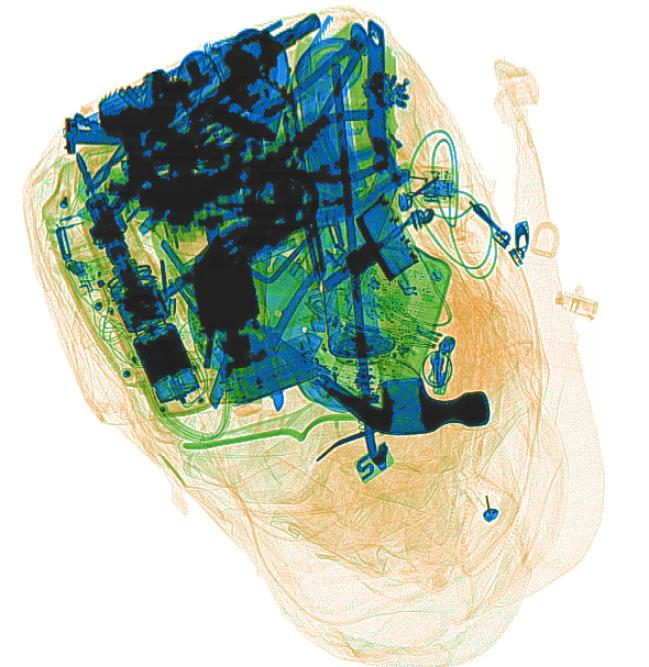battery: (221, 335, 319, 404)
